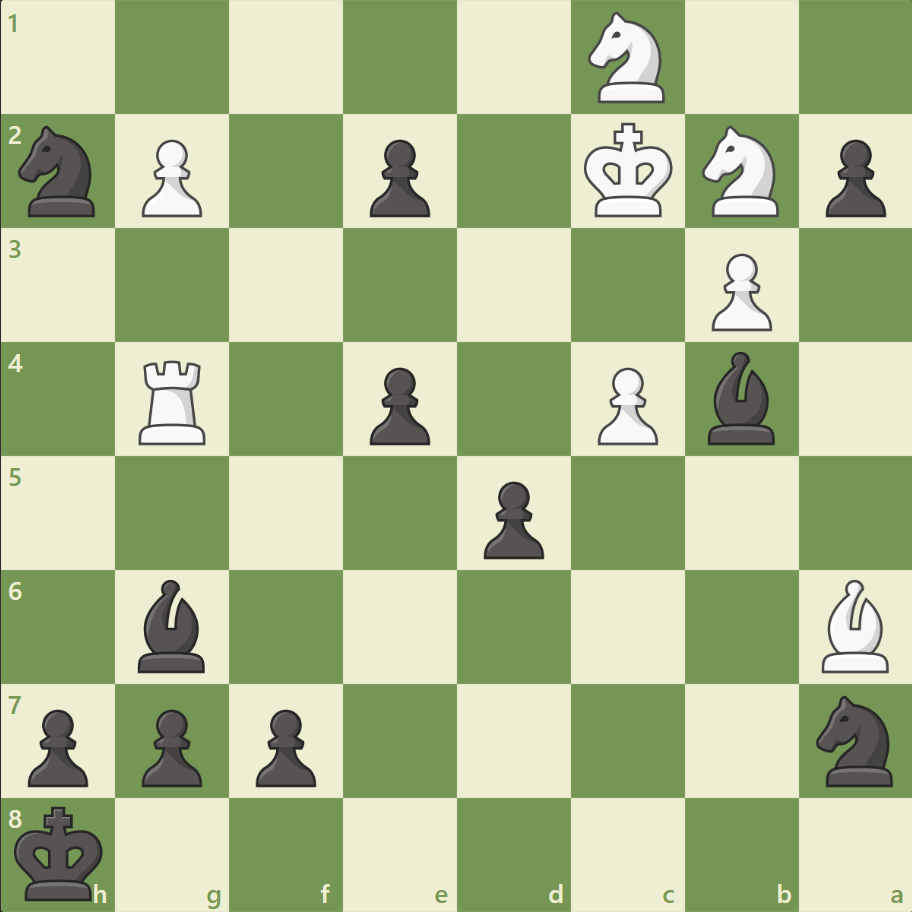B: (812, 574, 896, 676)
K: (579, 117, 679, 225)
N: (579, 7, 676, 110), (692, 121, 789, 223)
P: (701, 246, 776, 337), (133, 132, 208, 223), (588, 359, 662, 450)
R: (133, 352, 215, 449)
b: (131, 574, 215, 676), (698, 347, 782, 449)
k: (11, 798, 111, 906)
n: (806, 688, 903, 791), (11, 121, 108, 223)
p: (247, 700, 322, 791), (133, 700, 208, 791), (20, 700, 95, 791), (474, 473, 549, 564), (361, 359, 435, 450), (815, 132, 889, 223), (361, 132, 435, 223)
